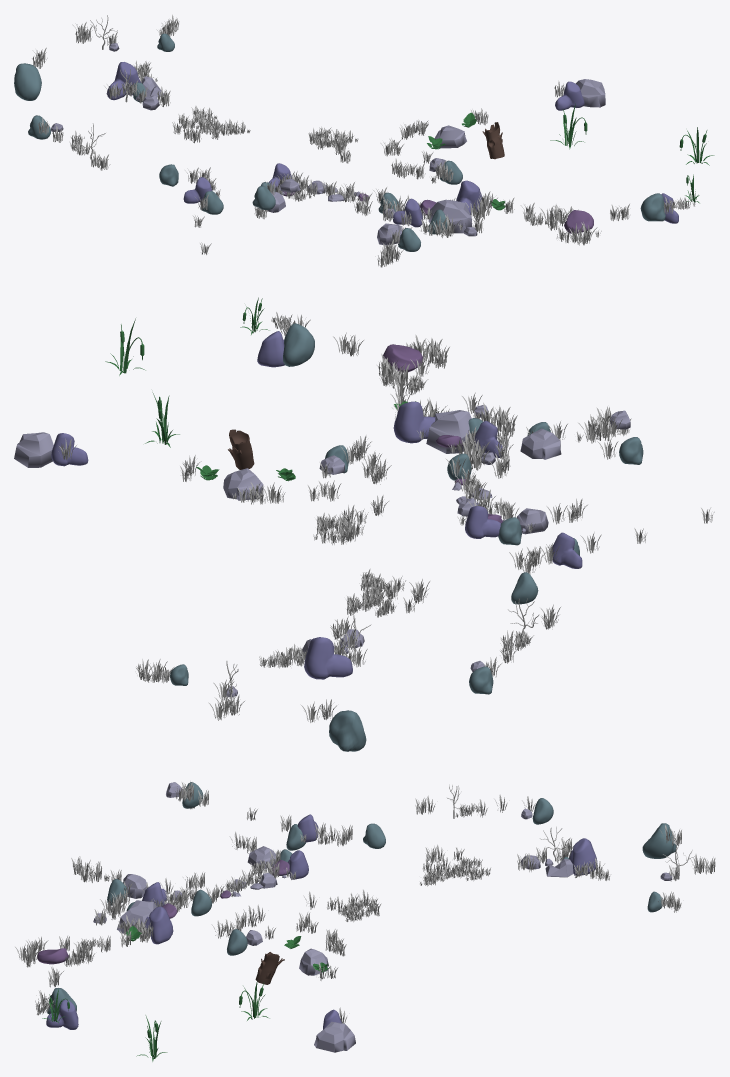
File: Level_2_hub_decoration.fbx
3 views of the same model, one above another, from view 1: azimuth 30°, elevation 25°; view 2: azimuth 150°, elevation 25°; view 3: azimuth 270°, elevation 25° (orthographic). The views are drawn at different scales.
Parts seen in each view (by area): view 1: pasted__rock_03_lp11, pasted__blocky_rock_chunky_lp6, pasted__blocky_rock_chunky_lp14, pasted__rock_02_lp2, pasted__rock_03_lp10, pasted__rock_02_lp6, pasted__blocky_rock_chunky_lp15, pasted__rock_02_lp4, pasted__rock_02_lp1, pasted__hollow_trunk_lp, pasted__rock_01_lp3, grass26 (+5 smaller); view 2: pasted__rock_02_lp2, pasted__rock_02_lp1, pasted__blocky_rock_chunky_lp6, pasted__rock_03_lp11, pasted__blocky_rock_chunky_lp14, pasted__rock_03_lp10, pasted__blocky_rock_chunky_lp10, pasted__blocky_rock_chunky_lp15, pasted__rock_02_lp, pasted__rock_02_lp6, pasted__rock_01_lp3, pasted__rock_02_lp3 (+2 smaller); view 3: pasted__blocky_rock_chunky_lp14, pasted__rock_03_lp11, pasted__rock_02_lp1, pasted__rock_02_lp2, pasted__blocky_rock_chunky_lp6, pasted__rock_02_lp5, pasted__hollow_trunk_lp, pasted__blocky_rock_chunky_lp15, grass24, pasted__rock_02_lp, grass25, pasted__blocky_rock_chunky_lp10.
Part boxes in pixels (x1=…): pasted__rock_03_lp11: x1=14, y1=63, x2=41, y2=100; pasted__blocky_rock_chunky_lp6: x1=428, y1=199, x2=472, y2=233; pasted__blocky_rock_chunky_lp14: x1=576, y1=79, x2=605, y2=107; pasted__rock_02_lp2: x1=106, y1=62, x2=140, y2=100; pasted__rock_03_lp10: x1=640, y1=193, x2=665, y2=221; pasted__rock_02_lp6: x1=555, y1=81, x2=584, y2=110; pasted__blocky_rock_chunky_lp15: x1=434, y1=125, x2=466, y2=148; pasted__rock_02_lp4: x1=393, y1=198, x2=422, y2=227; pasted__rock_02_lp1: x1=456, y1=180, x2=482, y2=214; pasted__hollow_trunk_lp: x1=482, y1=122, x2=504, y2=159; pasted__rock_01_lp3: x1=564, y1=210, x2=593, y2=233; grass26: x1=556, y1=222, x2=601, y2=245; pasted__rock_02_lp2: x1=304, y1=637, x2=352, y2=679; pasted__rock_02_lp1: x1=393, y1=401, x2=435, y2=443; pasted__blocky_rock_chunky_lp6: x1=426, y1=410, x2=471, y2=453; pasted__rock_03_lp11: x1=329, y1=710, x2=366, y2=751; pasted__blocky_rock_chunky_lp14: x1=14, y1=432, x2=53, y2=467; pasted__rock_03_lp10: x1=283, y1=323, x2=314, y2=366; pasted__blocky_rock_chunky_lp10: x1=520, y1=428, x2=561, y2=459; pasted__blocky_rock_chunky_lp15: x1=223, y1=468, x2=263, y2=500; pasted__rock_02_lp: x1=465, y1=506, x2=500, y2=538; pasted__rock_02_lp6: x1=51, y1=433, x2=88, y2=466; pasted__rock_01_lp3: x1=383, y1=344, x2=423, y2=372; pasted__rock_02_lp3: x1=551, y1=532, x2=582, y2=568; pasted__blocky_rock_chunky_lp14: x1=314, y1=1021, x2=355, y2=1052; pasted__rock_03_lp11: x1=642, y1=823, x2=676, y2=858; pasted__rock_02_lp1: x1=143, y1=906, x2=173, y2=944; pasted__rock_02_lp2: x1=569, y1=838, x2=597, y2=875; pasted__blocky_rock_chunky_lp6: x1=117, y1=900, x2=156, y2=936; pasted__rock_02_lp5: x1=46, y1=999, x2=78, y2=1029; pasted__hollow_trunk_lp: x1=255, y1=952, x2=284, y2=984; pasted__blocky_rock_chunky_lp15: x1=299, y1=948, x2=328, y2=975; grass24: x1=71, y1=856, x2=109, y2=882; pasted__rock_02_lp: x1=288, y1=850, x2=308, y2=879; grass25: x1=100, y1=889, x2=132, y2=919; pasted__blocky_rock_chunky_lp10: x1=123, y1=874, x2=146, y2=898.
Size of the model in its own units: 33.16 by 5.67 by 39.52.
